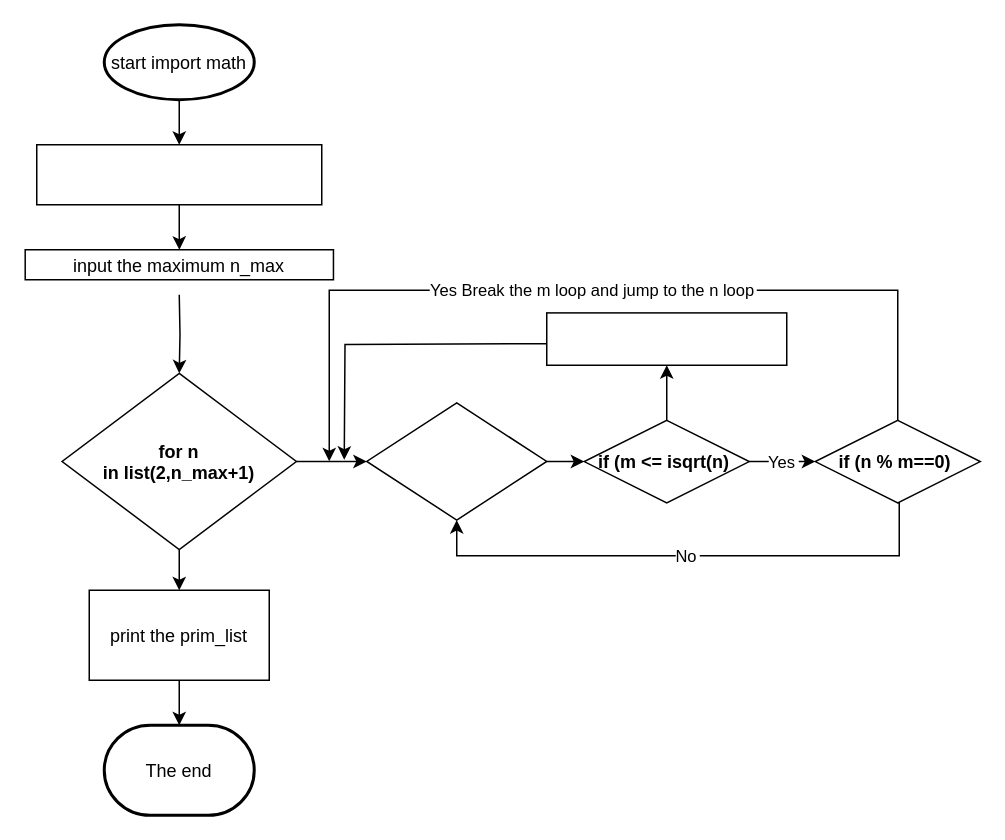
This 1005x840 diagram has some shape labels left out. The centre of each missing label's shape, as x and y in pixels:
"append(n) to prime_list Break the m loop" belongs at point (666, 338).
"for m in prmerl_ist" belongs at point (456, 460).
"set initial list to store selected prime numbers." belongs at point (178, 174).
